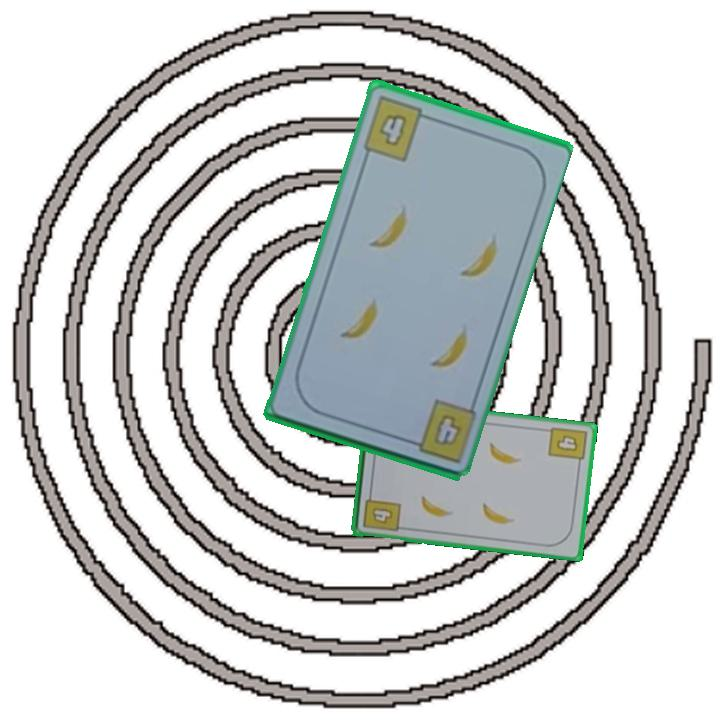4b: (359, 92, 435, 165), (545, 423, 589, 470), (359, 488, 403, 534), (433, 413, 461, 445)
